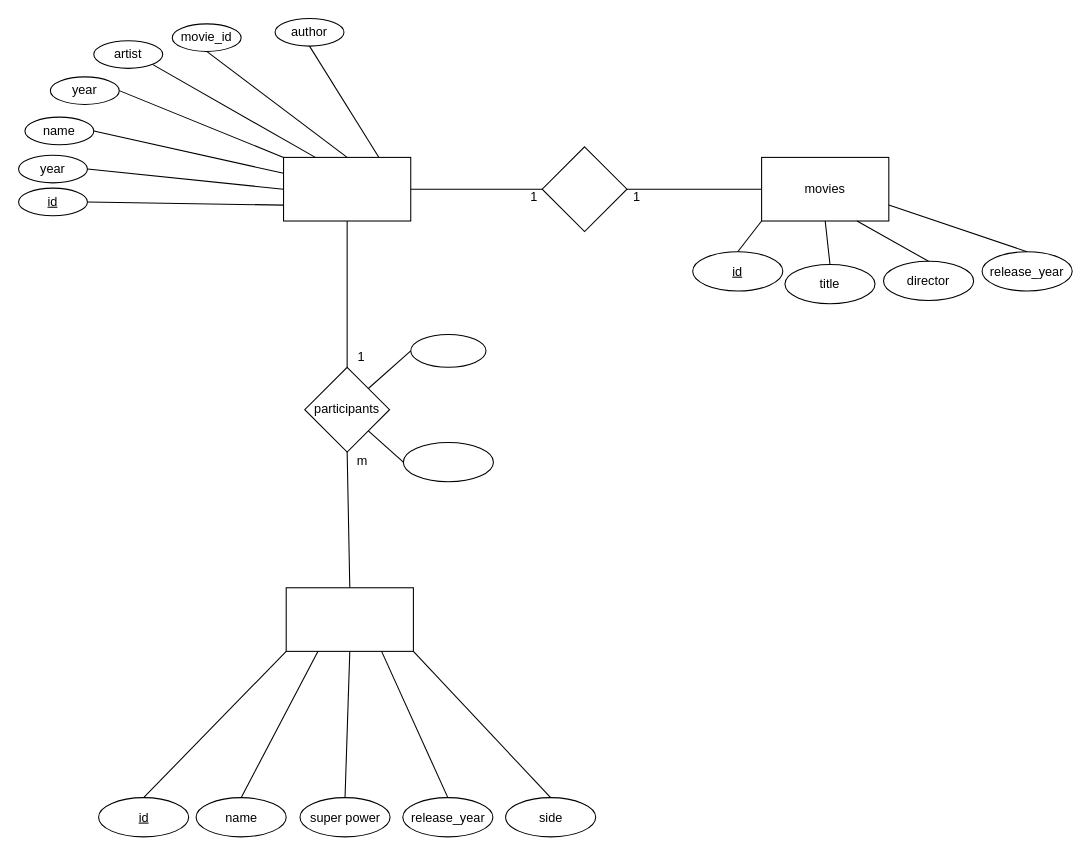
The diagram is 1091 pixels wide and 855 high, and some of its shapes have lost their labels. The box of each missing label's shape, as (x1, y1, x2, y2) in pixels:
adaptation: (541, 146, 627, 232)
character_id: (402, 441, 493, 482)
characters: (285, 587, 413, 651)
comic_books: (282, 156, 411, 221)
comic_id: (410, 333, 486, 367)
